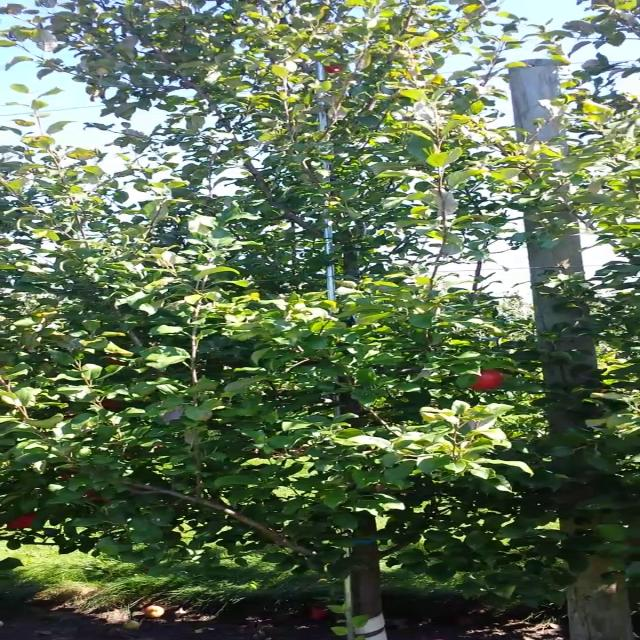apple: (466, 368, 506, 390), (2, 512, 36, 530), (105, 352, 125, 366), (322, 65, 346, 75), (99, 396, 118, 408)
